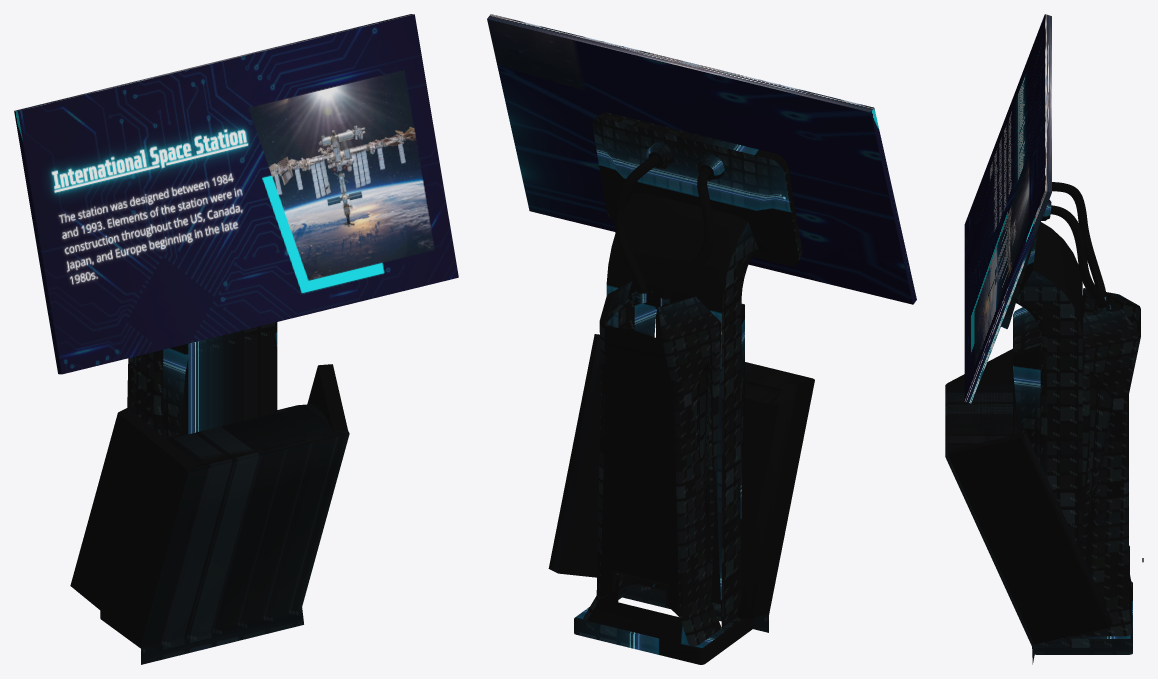
The model's file is iss.glb.
The picture shows the model from 3 angles, left to right: view 1: azimuth 30°, elevation 25°; view 2: azimuth 150°, elevation 25°; view 3: azimuth 270°, elevation 25°; orthographic projection. The views are drawn at different scales.
Parts seen in each view (by area): view 1: Cube, Body; view 2: Body, Cube; view 3: Body, Cube.
Boxes of the visible parts, x1,y1,x2,y2 form: Cube: (14,14,458,374); Body: (70,322,349,664); Body: (548,112,814,664); Cube: (487,14,916,304); Body: (945,182,1143,664); Cube: (964,14,1051,403).
Size of the model in its own units: 0.9994 by 1.39 by 0.4742.
Materials: 3 (3 with a texture image).
